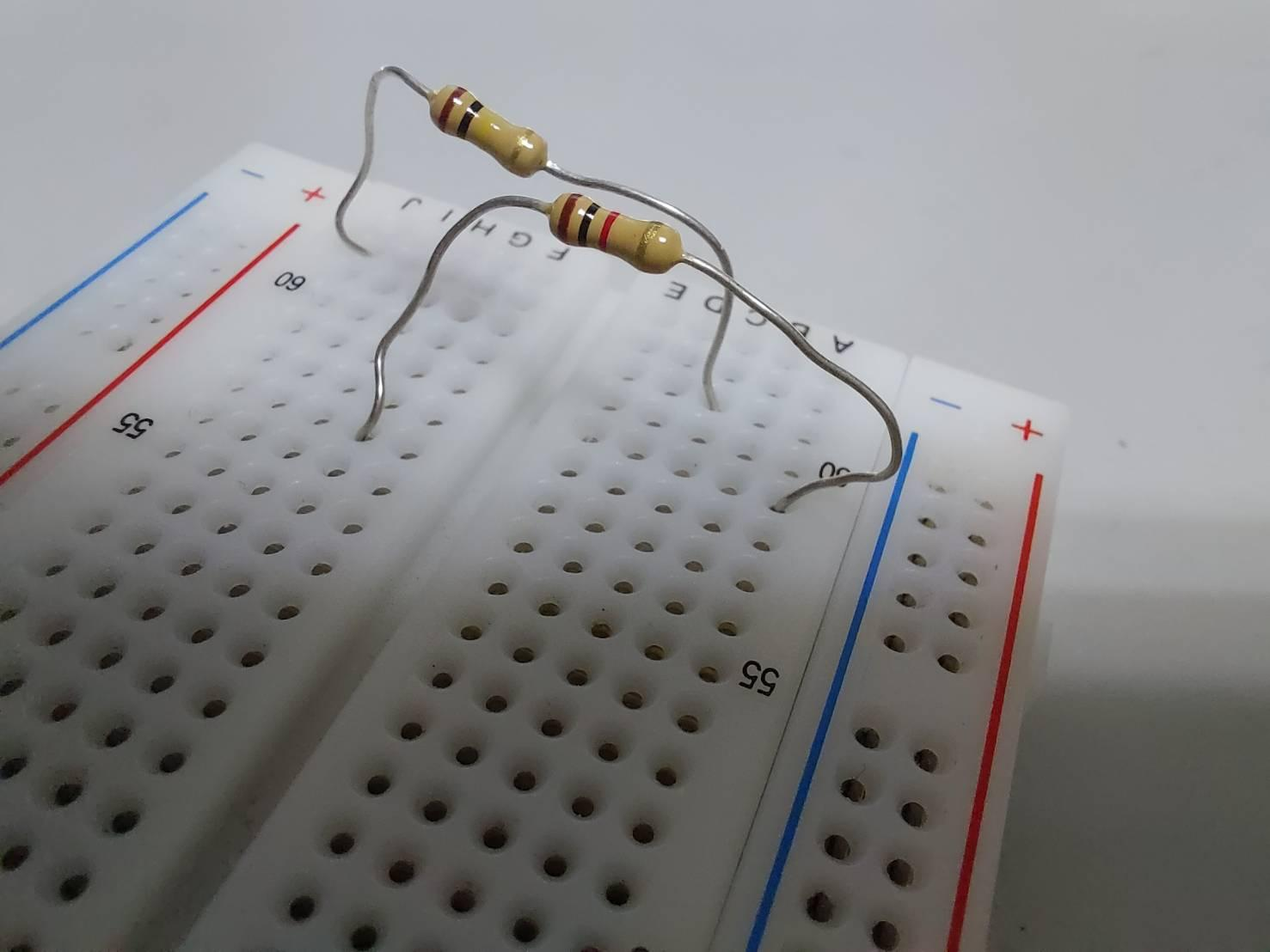resistor: (530, 183, 691, 273), (422, 76, 559, 181)
